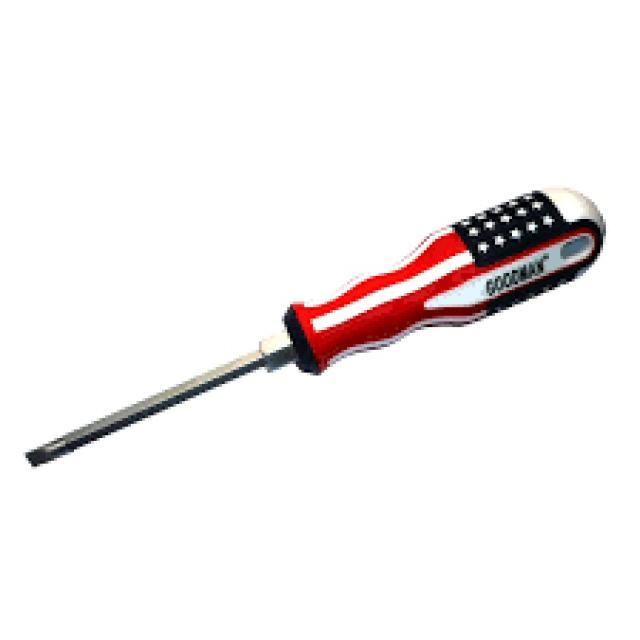screwdriver: (21, 186, 610, 474)
